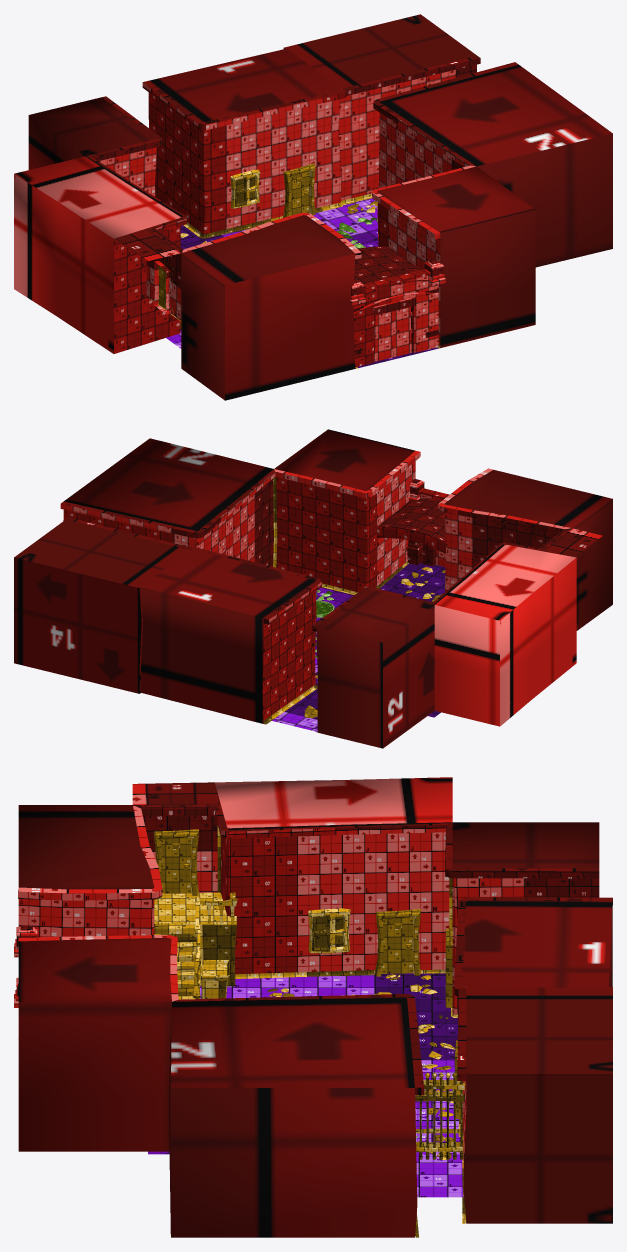
The model's file is Vecindad_Entorno_002.fbx.
3 renders of one model, top to bottom at view 1: azimuth 30°, elevation 25°; view 2: azimuth 150°, elevation 25°; view 3: azimuth 270°, elevation 25°, orthographic. The views are drawn at different scales.
Visible parts, largest first — view 1: Edificio_Fondo_Vecindad, Edificio_Entrada_03, Edificio_Casa_don_ramon, Edificio_DoñaFlorinda, Edificio_Entrada, Edificio_Vecino_Don_Ramon, Edificio_Bruja, Marco_Entrada_Prin, Edificio_Jaimito_Edificio_Jaimito, Piso_vecindad, Fachada, Puerta_Prin_Der (+3 smaller); view 2: Edificio_Casa_don_ramon, Edificio_DoñaFlorinda, Edificio_Vecino_Don_Ramon, Edificio_Entrada, Edificio_Fondo_Vecindad, Edificio_Bruja, Edificio_Entrada_03, Piso_vecindad, Fachada, Marco_Entrada_Prin, Edificio_Jaimito_Edificio_Jaimito; view 3: Edificio_Fondo_Vecindad, Edificio_DoñaFlorinda, Edificio_Vecino_Don_Ramon, Edificio_Entrada, Edificio_Entrada_03, Edificio_Casa_don_ramon, Edificio_Bruja, Piso_vecindad, Escalones_Escalones, Edificio_Jaimito_Edificio_Jaimito, Puerta_Don_Ramon_pCube35 (×2), Marco_Puerta (×3) (+8 smaller).
Part boxes in pixels (box(x1,y1,x2,y2)): Edificio_Fondo_Vecindad: box(373, 62, 612, 267); Edificio_Entrada_03: box(181, 212, 361, 400); Edificio_Casa_don_ramon: box(142, 48, 346, 233); Edificio_DoñaFlorinda: box(14, 156, 186, 353); Edificio_Entrada: box(372, 165, 535, 347); Edificio_Vecino_Don_Ramon: box(283, 14, 480, 200); Edificio_Bruja: box(28, 96, 162, 196); Marco_Entrada_Prin: box(350, 259, 445, 367); Edificio_Jaimito_Edificio_Jaimito: box(114, 228, 183, 321); Piso_vecindad: box(166, 198, 438, 368); Fachada: box(353, 246, 439, 314); Puerta_Prin_Der: box(374, 311, 393, 361); Edificio_Casa_don_ramon: box(140, 547, 321, 723); Edificio_DoñaFlorinda: box(433, 542, 576, 726); Edificio_Vecino_Don_Ramon: box(14, 517, 190, 693); Edificio_Entrada: box(274, 429, 420, 592); Edificio_Fondo_Vecindad: box(60, 438, 275, 566); Edificio_Bruja: box(312, 586, 434, 748); Edificio_Entrada_03: box(438, 468, 612, 630); Piso_vecindad: box(272, 562, 445, 731); Fachada: box(377, 498, 445, 553); Marco_Entrada_Prin: box(407, 478, 449, 566); Edificio_Jaimito_Edificio_Jaimito: box(539, 528, 602, 557); Edificio_Fondo_Vecindad: box(168, 994, 424, 1237); Edificio_DoñaFlorinda: box(215, 777, 452, 974); Edificio_Vecino_Don_Ramon: box(457, 987, 612, 1223); Edificio_Entrada: box(18, 935, 178, 1151); Edificio_Entrada_03: box(18, 805, 162, 937); Edificio_Casa_don_ramon: box(454, 897, 612, 1131); Edificio_Bruja: box(445, 822, 599, 1014); Piso_vecindad: box(148, 973, 463, 1197); Escalones_Escalones: box(154, 892, 237, 999); Edificio_Jaimito_Edificio_Jaimito: box(132, 782, 220, 892); Puerta_Don_Ramon_pCube35 (×2): box(161, 837, 413, 973); Marco_Puerta (×3): box(153, 829, 452, 1007).
Bounding box in the file's own units: 26.65 × 6.03 × 21.71.
